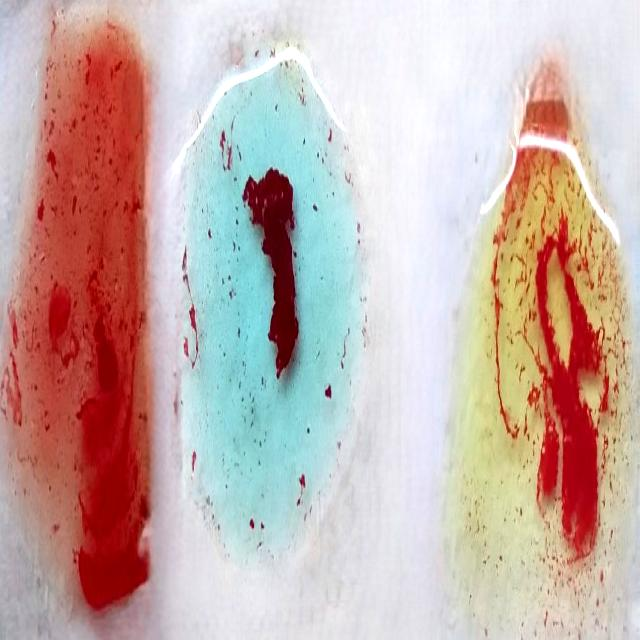A: (186, 57, 356, 549)
B: (464, 62, 625, 640)
D: (18, 26, 158, 626)
